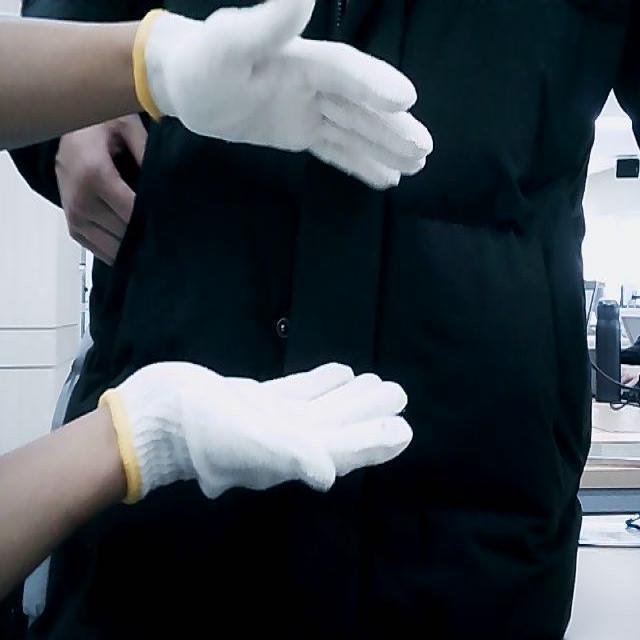gloves: (132, 0, 434, 188), (104, 358, 413, 509)
